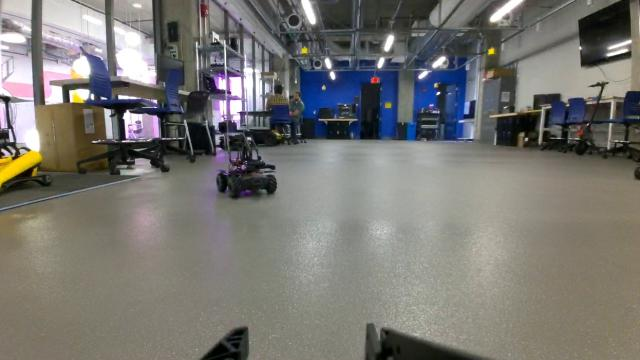robot: (216, 134, 280, 204)
